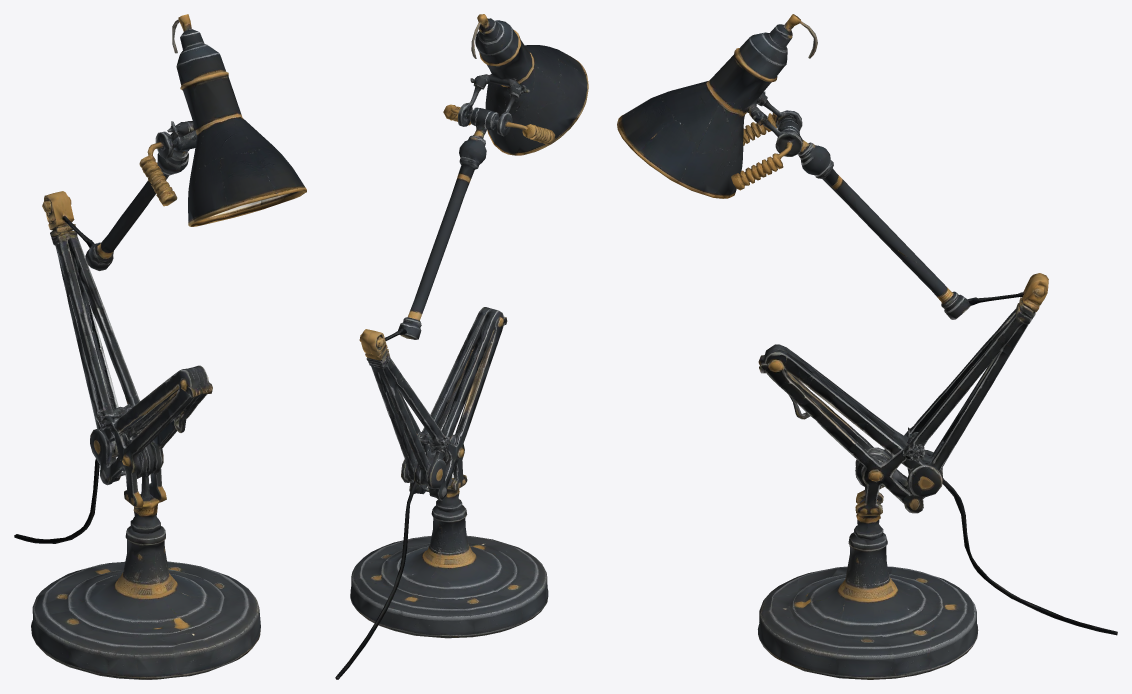
3 views of the same model, side by side, from view 1: azimuth 30°, elevation 25°; view 2: azimuth 150°, elevation 25°; view 3: azimuth 270°, elevation 25° (orthographic). The views are drawn at different scales.
Bounding box in the file's own units: 0.6114 × 1.9 × 1.39.
1 material, 1 textured.
